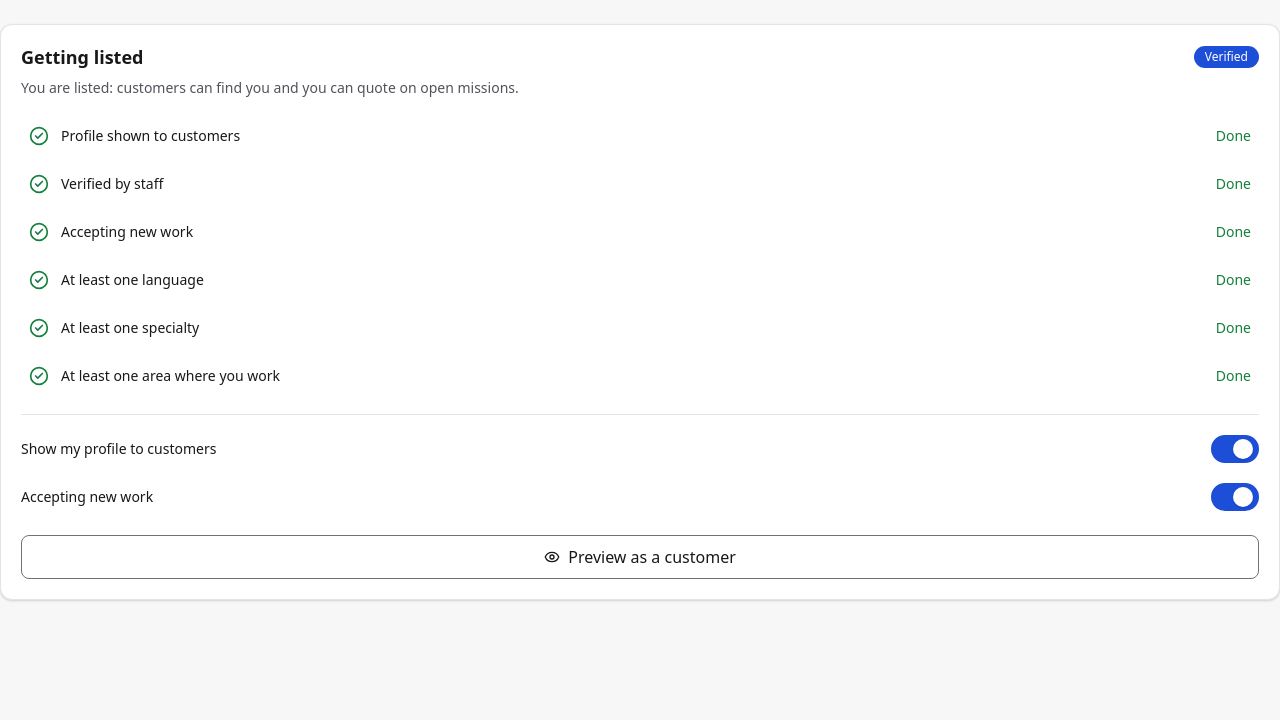
Scenario: where the profile stands › says why a switch did not save, including when the API cannot be reached
Click the switch named "Show my profile to customers" in the row of "Show my profile to customers". click: [1235, 449]
box: [1211,435,1259,463]
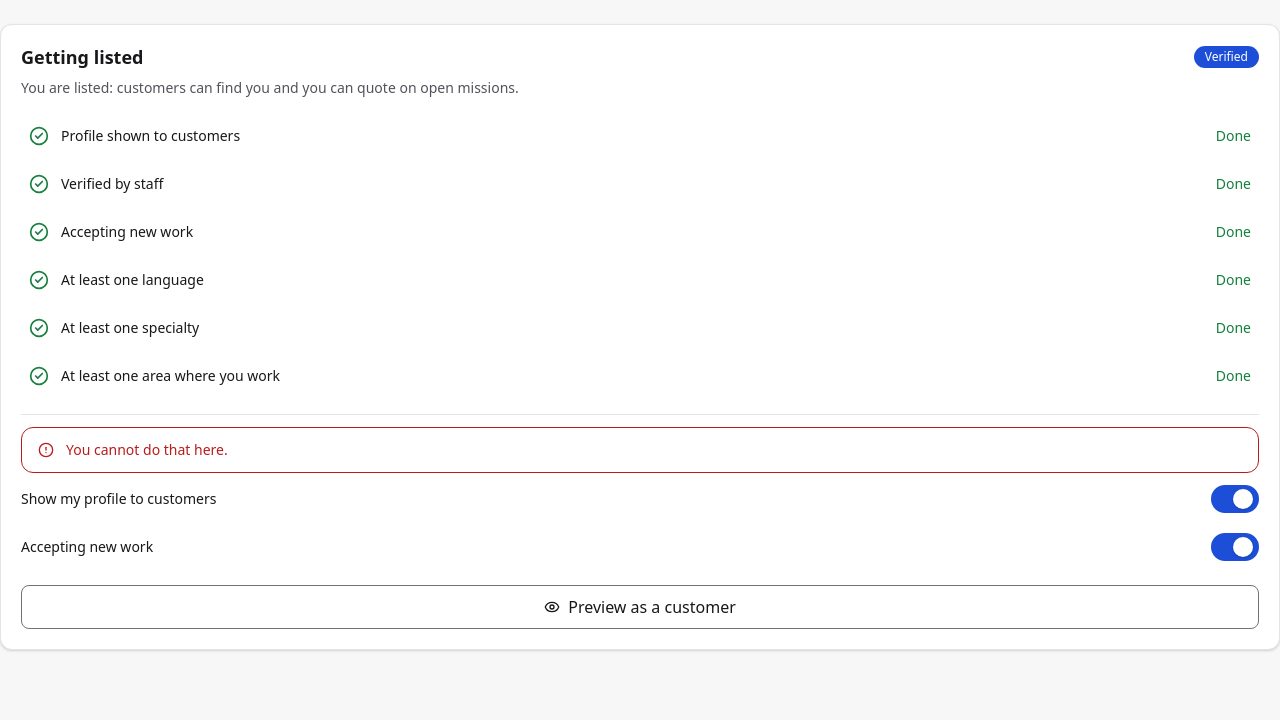
Expected: the message reads "You cannot do that here.", [66,440,228,459]
Click the 2nd switch named "Accepting new work". click: [1235, 547]
box: [1211,533,1259,561]
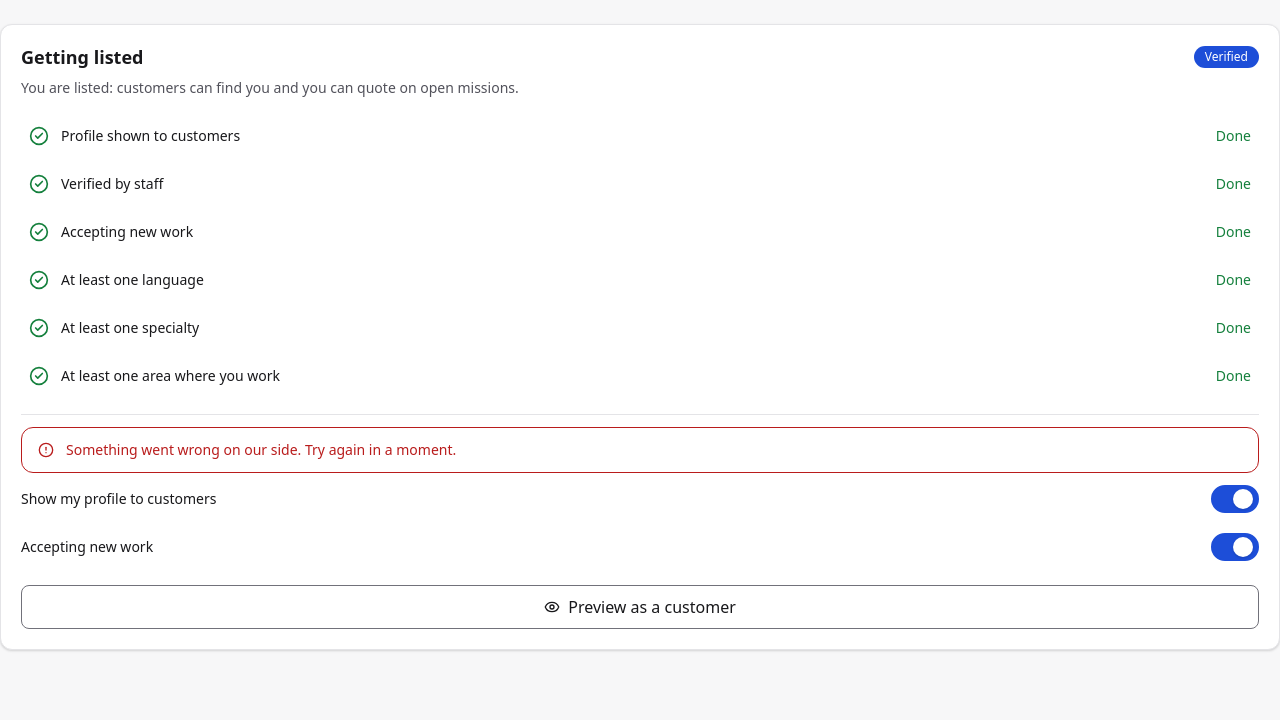
Expected: the message reads "Something went wrong on our side. Try again in a moment.", [66,440,456,459]
